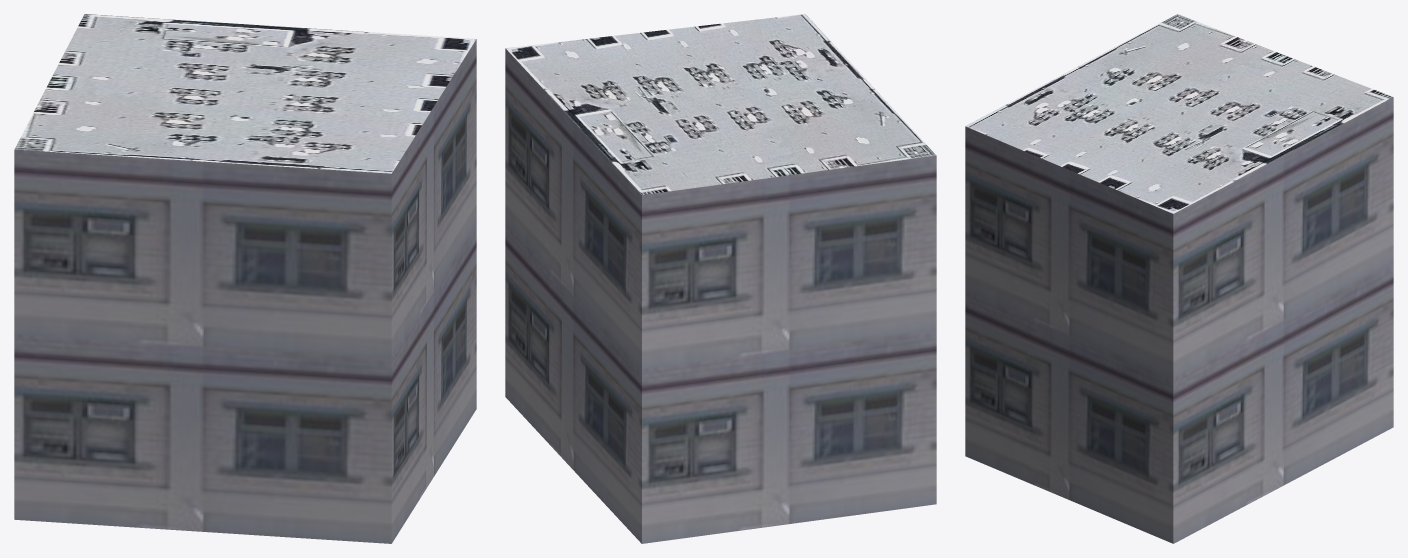
File: ResTex__244.fbx
3 renders of one model, left to right at view 1: azimuth 30°, elevation 25°; view 2: azimuth 150°, elevation 25°; view 3: azimuth 270°, elevation 25°, orthographic. The views are drawn at different scales.
Visible parts, largest first — view 1: CityEngineMaterial_1_m, CityEngineMaterial_m; view 2: CityEngineMaterial_1_m, CityEngineMaterial_m; view 3: CityEngineMaterial_1_m, CityEngineMaterial_m.
Boxes of the visible parts, x1,y1,x2,y2 form: CityEngineMaterial_1_m: [14, 39, 476, 543]; CityEngineMaterial_m: [14, 14, 476, 173]; CityEngineMaterial_1_m: [505, 48, 936, 543]; CityEngineMaterial_m: [506, 14, 936, 194]; CityEngineMaterial_1_m: [965, 97, 1393, 543]; CityEngineMaterial_m: [965, 14, 1393, 213].
Size of the model in its own units: 7.8 by 6 by 7.06.
Materials: 2 (2 with a texture image).
